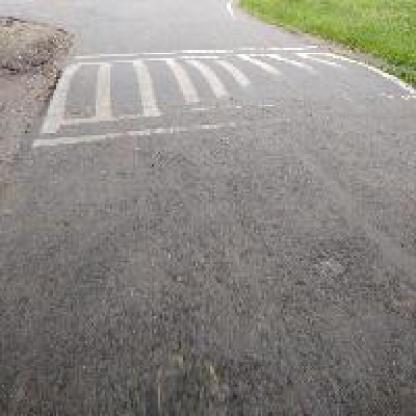Speed Bump: (31, 44, 414, 150)
